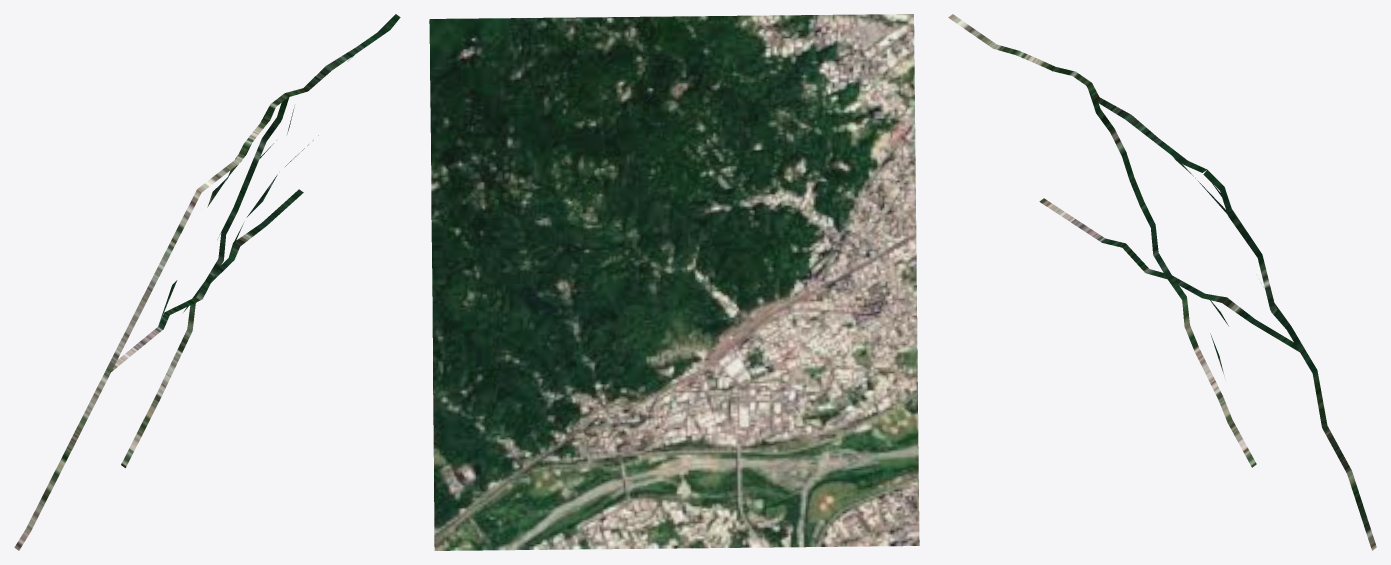
3 views of the same model, side by side, from view 1: azimuth 30°, elevation 25°; view 2: azimuth 150°, elevation 25°; view 3: azimuth 270°, elevation 25° (orthographic). The views are drawn at different scales.
Size of the model in its own units: 4821 by 4545 by 4135.
Materials: 1 (1 with a texture image).
